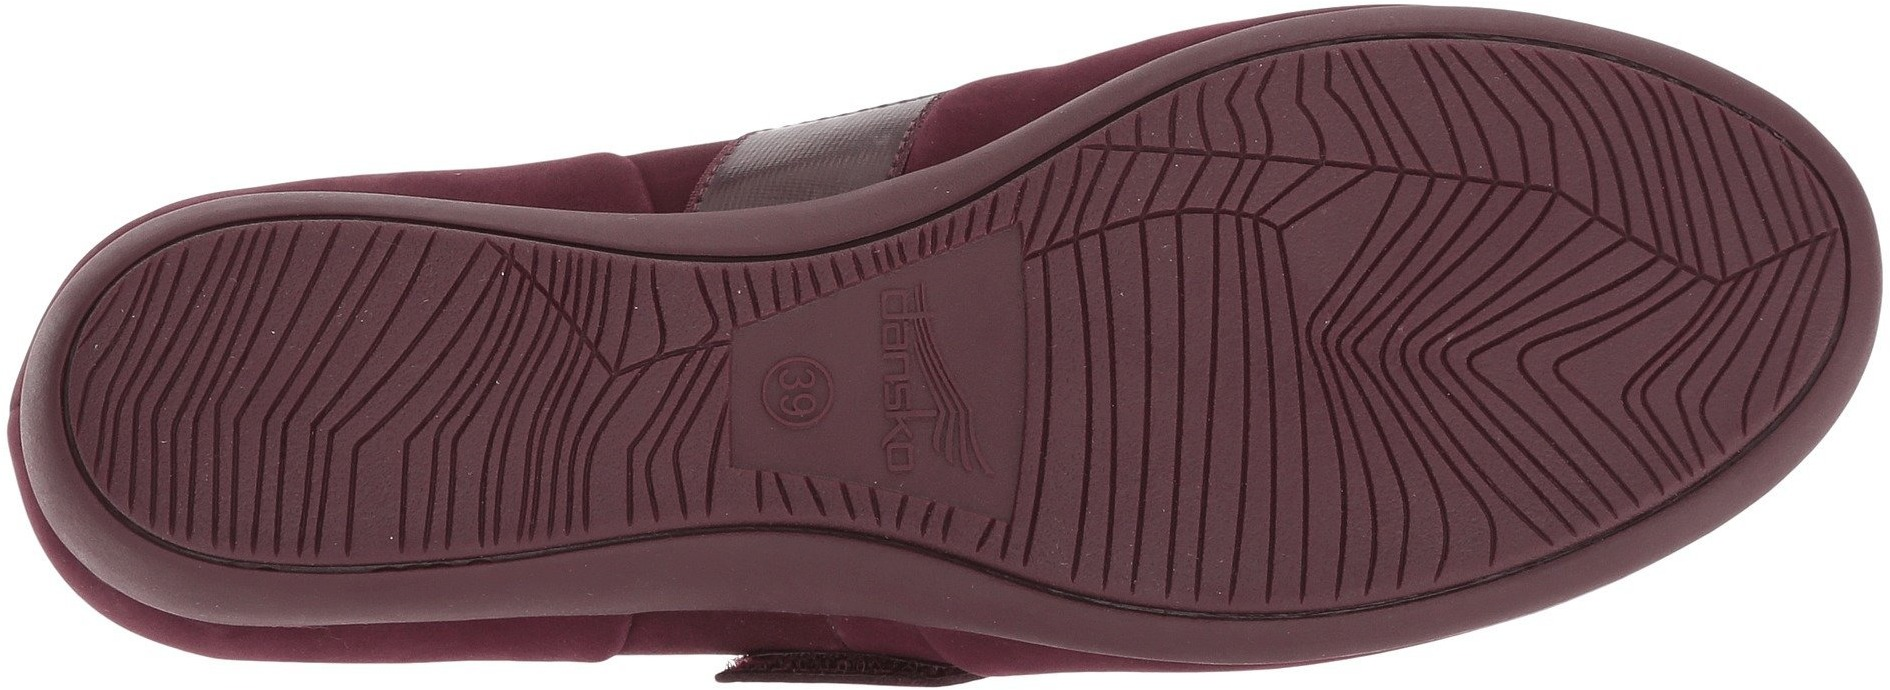chevron: (1303, 188, 1713, 476), (155, 317, 529, 521)
circle: (745, 347, 845, 438)
line: (1298, 181, 1716, 475), (155, 317, 529, 521), (1032, 298, 1270, 587), (1035, 304, 1270, 587), (1069, 144, 1276, 230)
quad: (1069, 144, 1276, 230)
text: (855, 281, 938, 484), (741, 344, 844, 442), (745, 347, 845, 438)
